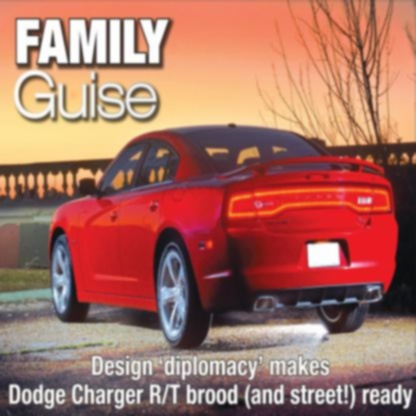Vehicle: (46, 120, 401, 355)
